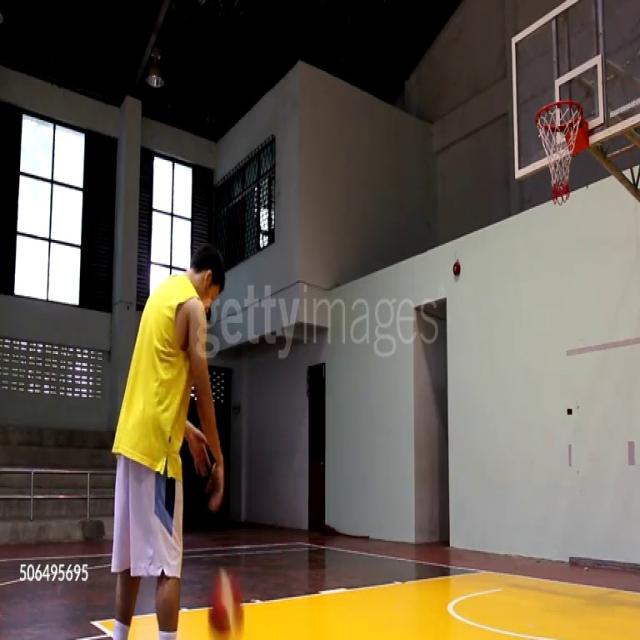ball: (208, 566, 245, 640)
